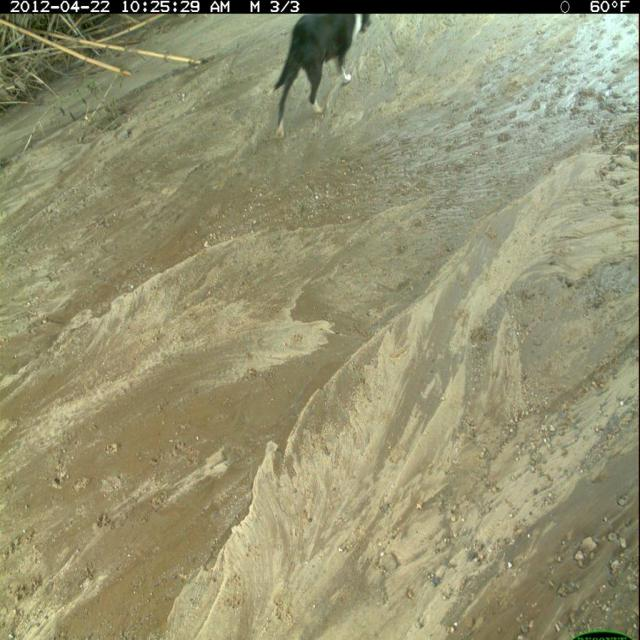dog: (272, 10, 377, 143)
